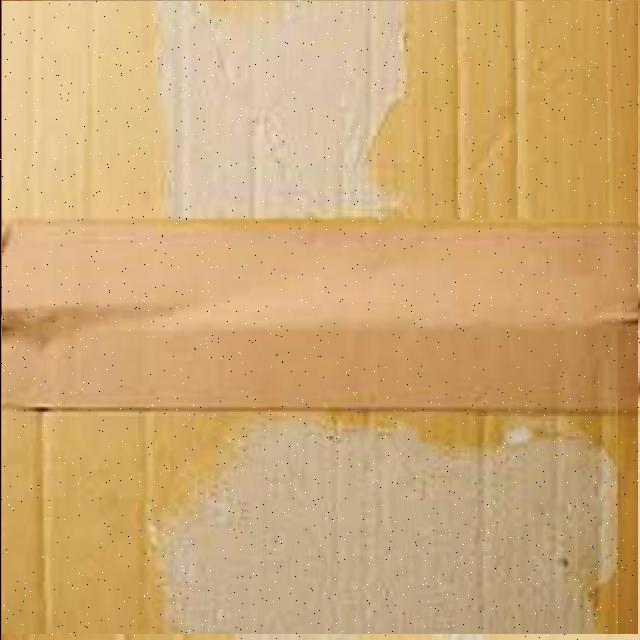defect: (1, 1, 637, 634)
